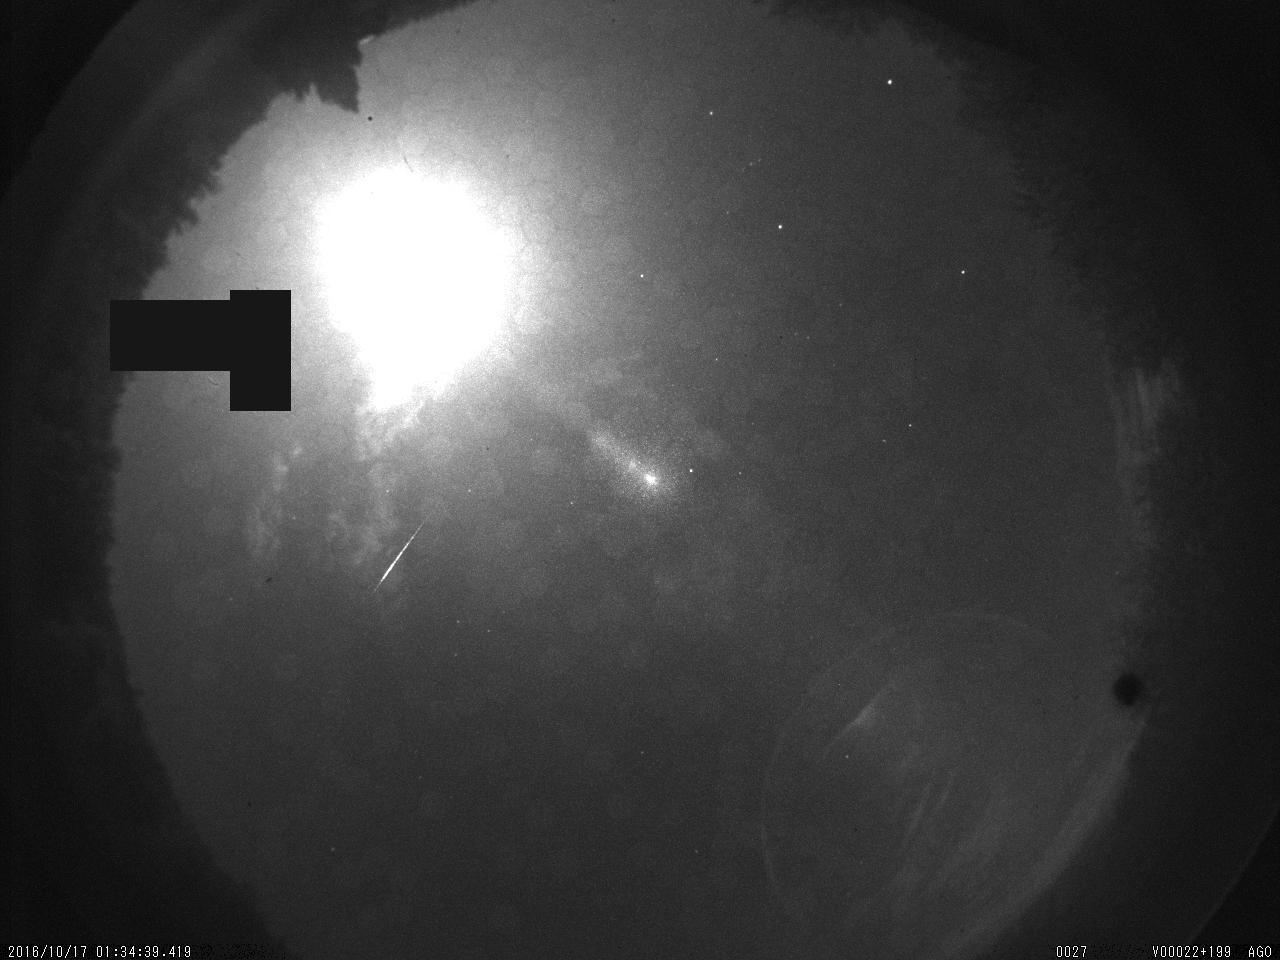meteor: (373, 508, 439, 595)
